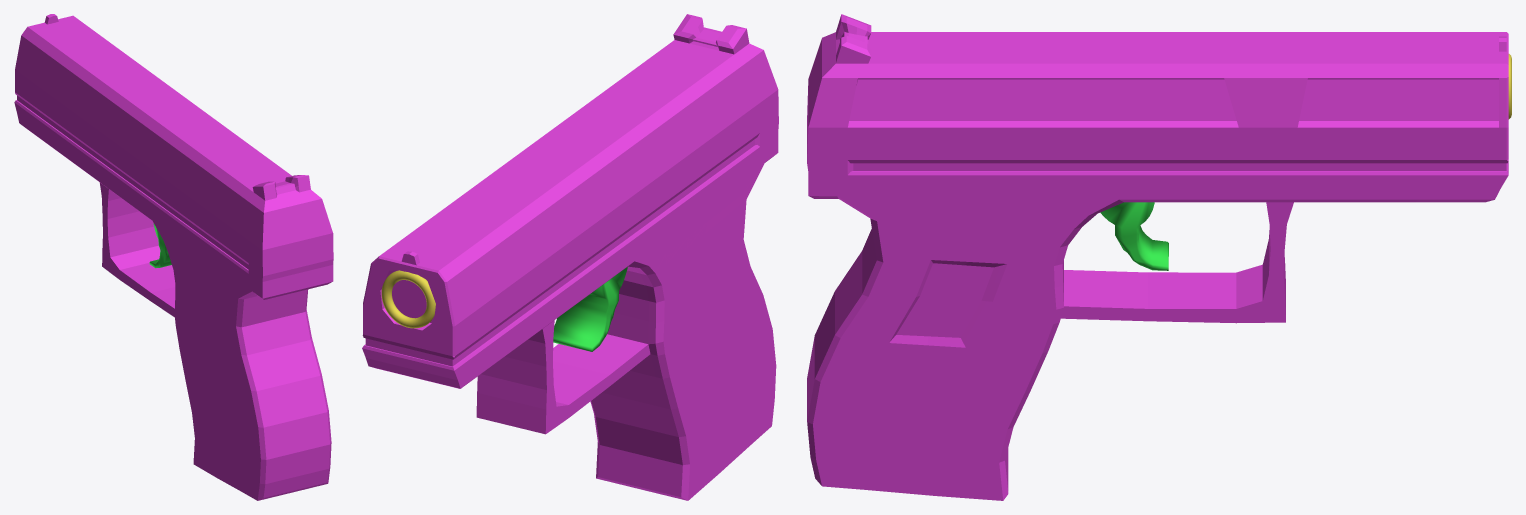
Rendered from WeaponAbandoned.fbx.
3 renders of one model, left to right at view 1: azimuth 30°, elevation 25°; view 2: azimuth 150°, elevation 25°; view 3: azimuth 270°, elevation 25°, orthographic. The views are drawn at different scales.
Visible parts, largest first — view 1: GunBody, Barrel; view 2: GunBody, Barrel, ChamberGun; view 3: GunBody, Barrel.
Part boxes in pixels (x1,y1,x2,y2): GunBody: (14, 14, 333, 500); Barrel: (149, 223, 171, 268); GunBody: (362, 14, 778, 500); Barrel: (553, 266, 627, 351); ChamberGun: (381, 270, 435, 328); GunBody: (807, 14, 1508, 500); Barrel: (1100, 202, 1168, 270).
Size of the model in its own units: 61.3 by 263 by 375.
